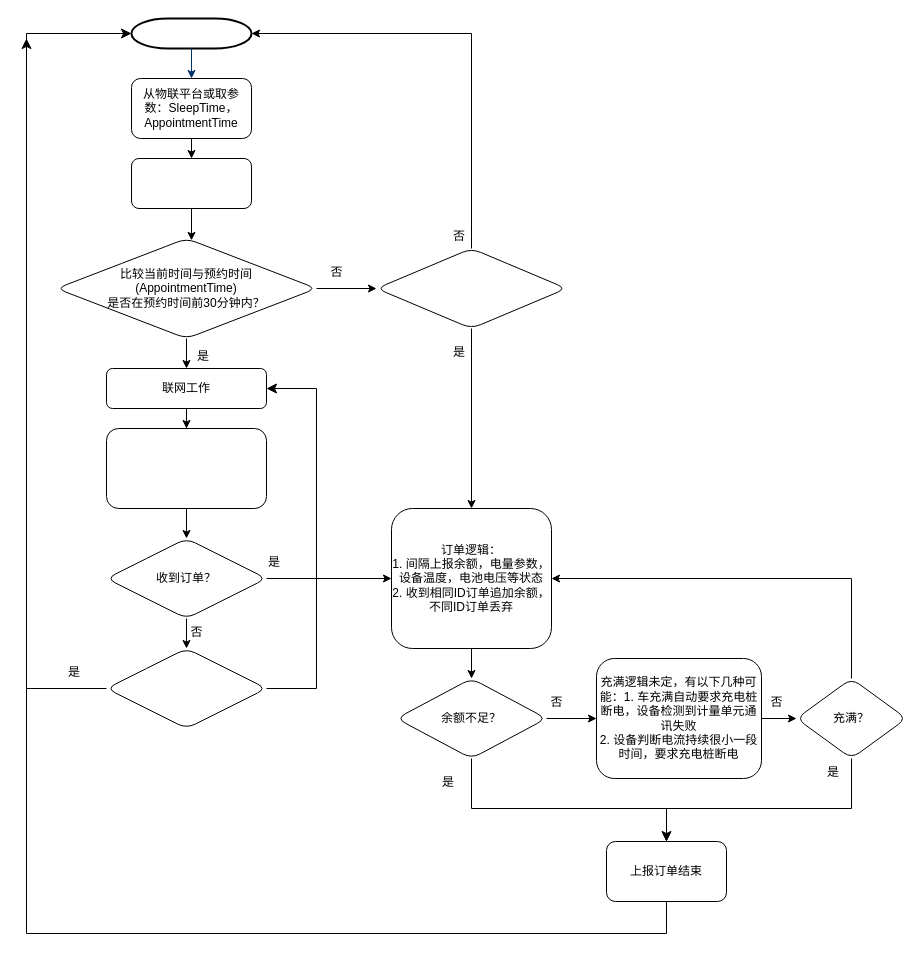
This 924x961 diagram has some shape labels left out. The shapes that lost their labels are listed below. From the top down, each one's box as (x1, y1, x2, y2) in pixels, then its label:
(130, 17, 252, 49): 上电或休眠后启动
(130, 158, 252, 208): 设置获取的休眠时间(SleepTime)，立即生效
(376, 248, 566, 328): 是否有未完成订单？
(106, 428, 266, 508): 1. 周期上报设备温度， 电池电压 2. 等待订单
(106, 648, 266, 728): 超过预约时间+10分钟？
